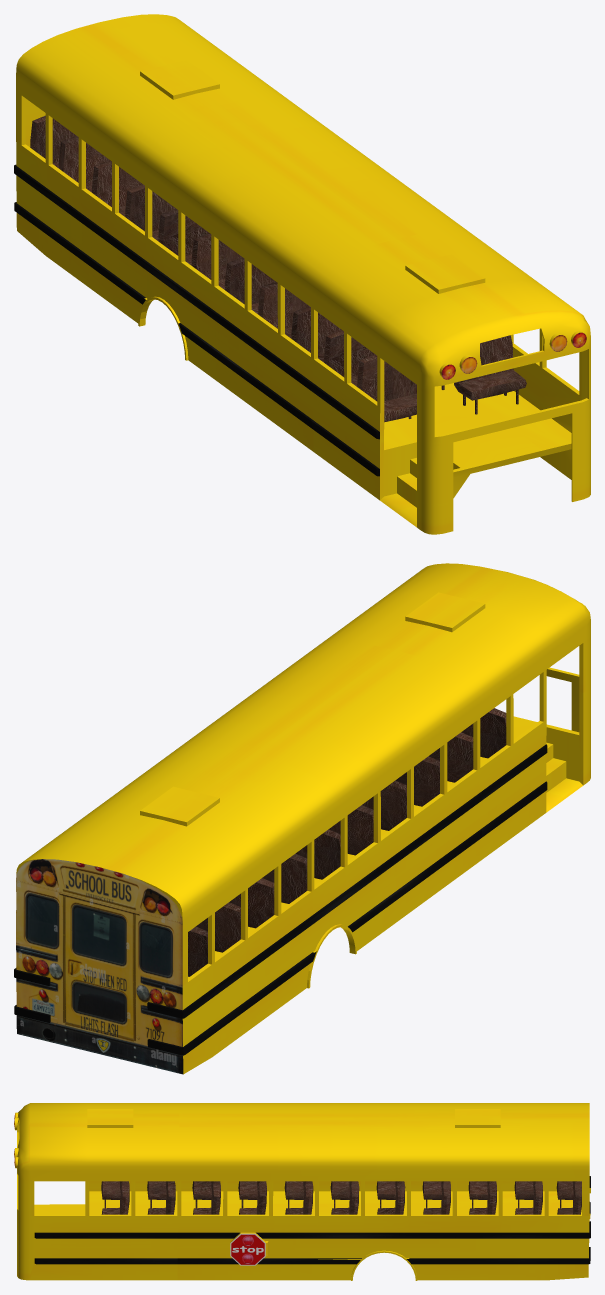
3 renders of one model, top to bottom at view 1: azimuth 30°, elevation 25°; view 2: azimuth 150°, elevation 25°; view 3: azimuth 270°, elevation 25°, orthographic. The views are drawn at different scales.
Parts seen in each view (by area): view 1: cabin_body; view 2: cabin_body; view 3: cabin_body.
Part boxes in pixels (<box>): cabin_body: <box>14,14,590,534</box>; cabin_body: <box>14,563,590,1074</box>; cabin_body: <box>14,1103,590,1280</box>.
Size of the model in its own units: 2.56 by 2.74 by 10.58.
1 material, 1 textured.
